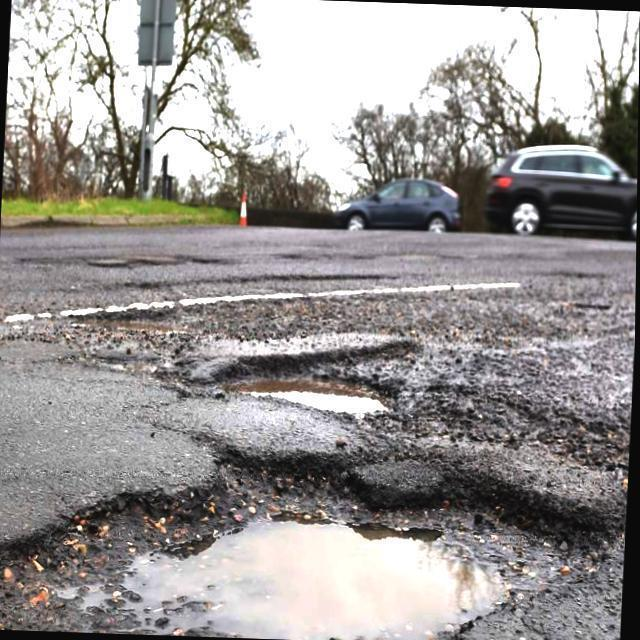Pothole: (0, 458, 601, 640), (212, 348, 404, 414), (66, 303, 193, 340)
